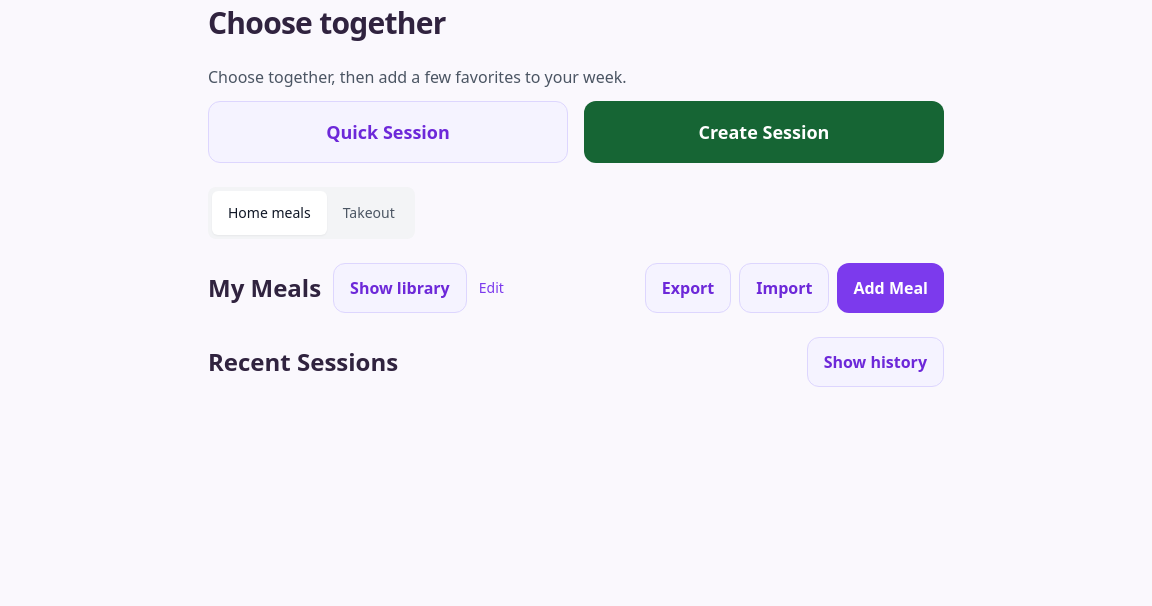
it: Dashboard - Edit Mode and Delete › should toggle edit mode when Edit button is clicked
The width and height of the screenshot is (1152, 606).
Click the button "Show library".
click(400, 288)  # box [333, 263, 467, 313]
(page scrolled)
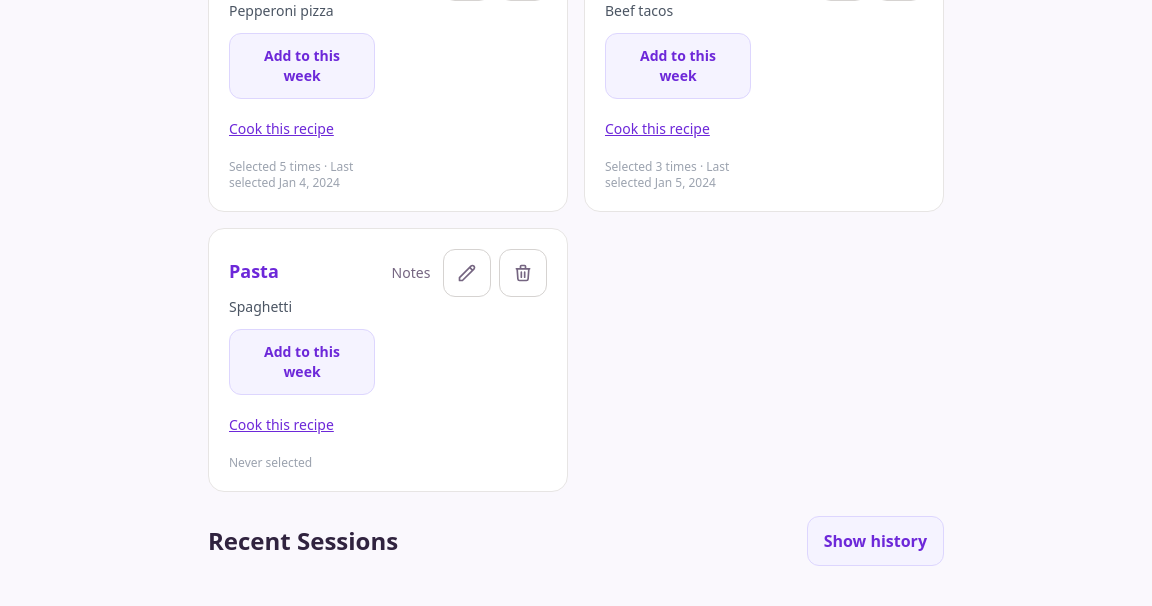
Click the button "Show history".
click(875, 541)  # box [807, 516, 944, 566]
(page scrolled)
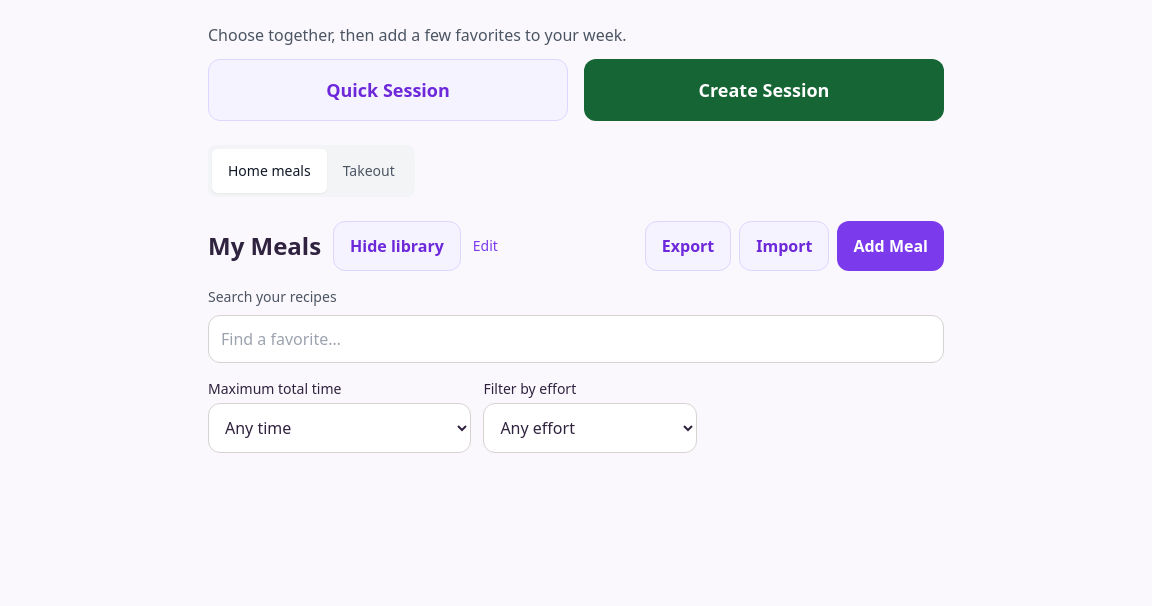
Click the button "Edit".
click(485, 246)  # box [473, 224, 498, 268]
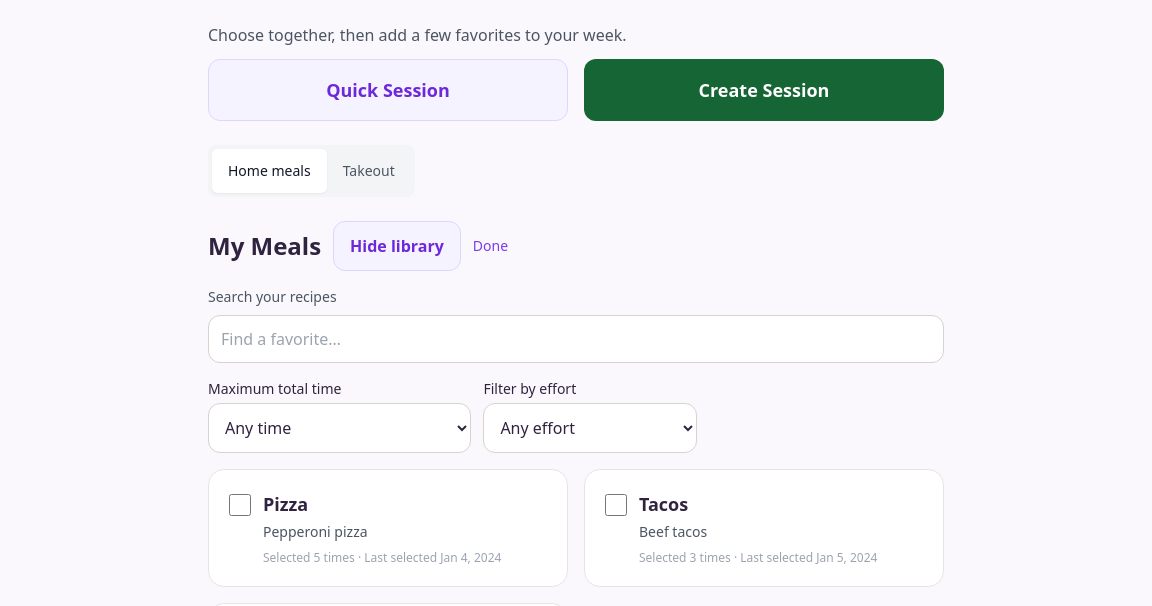
Check: the button "Done" is shown, box [473, 224, 508, 268]
Check: the button "Add Meal" is gone
